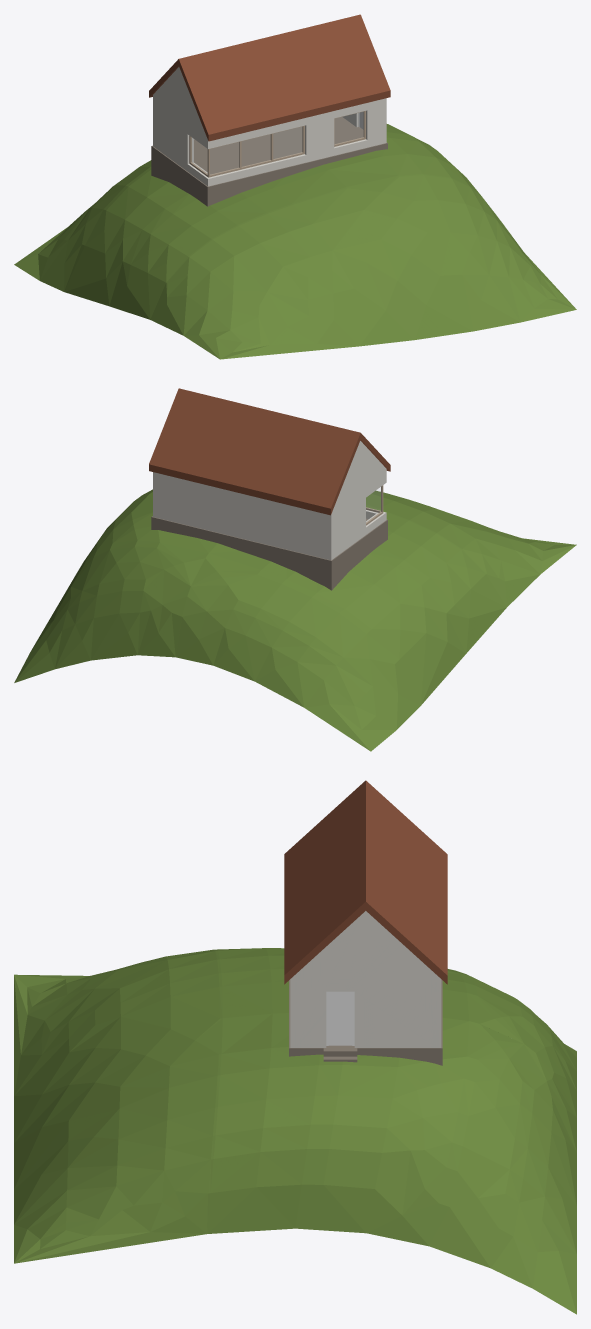
3 renders of one model, top to bottom at view 1: azimuth 30°, elevation 25°; view 2: azimuth 150°, elevation 25°; view 3: azimuth 270°, elevation 25°, orthographic. The views are drawn at different scales.
Parts seen in each view (by area): view 1: 0GNruBn012euT0V4j1zNbY, 1OkhcYSJv5nB5Ye2gD90ix, 0WILkkrrn0ivmOkgqqAb$R, 38MvAlC2H7RhTum1r0FJFg, 15HQrV8WX2nud_EOSSfoGz, 2mxzwkYnTAaRbnWQoDxfDd; view 2: 0GNruBn012euT0V4j1zNbY, 0ZIj0vhLbDIBzLVO1s0S3q, 2dSmIsY2j10OJaUd5RmL3e, 0WILkkrrn0ivmOkgqqAb$R, 15HQrV8WX2nud_EOSSfoGz; view 3: 0GNruBn012euT0V4j1zNbY, 2XjjioqkD00gotrGmqpPnw, 0ZIj0vhLbDIBzLVO1s0S3q, 1OkhcYSJv5nB5Ye2gD90ix, 0WILkkrrn0ivmOkgqqAb$R, 24WV2H7cb3MgDzwgWj1b8X, 2dSmIsY2j10OJaUd5RmL3e.
Boxes of the visible parts, x1,y1,x2,y2 form: 0GNruBn012euT0V4j1zNbY: (14,124,576,359); 1OkhcYSJv5nB5Ye2gD90ix: (178,14,390,141); 0WILkkrrn0ivmOkgqqAb$R: (151,117,387,206); 38MvAlC2H7RhTum1r0FJFg: (204,98,386,186); 15HQrV8WX2nud_EOSSfoGz: (156,67,207,183); 2mxzwkYnTAaRbnWQoDxfDd: (274,127,302,158); 0GNruBn012euT0V4j1zNbY: (14,489,576,751); 0ZIj0vhLbDIBzLVO1s0S3q: (149,388,360,515); 2dSmIsY2j10OJaUd5RmL3e: (153,472,334,560); 0WILkkrrn0ivmOkgqqAb$R: (151,516,387,590); 15HQrV8WX2nud_EOSSfoGz: (335,441,384,557); 0GNruBn012euT0V4j1zNbY: (14,948,576,1314); 2XjjioqkD00gotrGmqpPnw: (295,911,436,1047); 0ZIj0vhLbDIBzLVO1s0S3q: (366,780,447,984); 1OkhcYSJv5nB5Ye2gD90ix: (284,780,365,984); 0WILkkrrn0ivmOkgqqAb$R: (289,979,442,1065); 24WV2H7cb3MgDzwgWj1b8X: (326,991,354,1045); 2dSmIsY2j10OJaUd5RmL3e: (431,971,441,1047).
Bounding box in the file's own units: 20 × 13.91 × 20.
